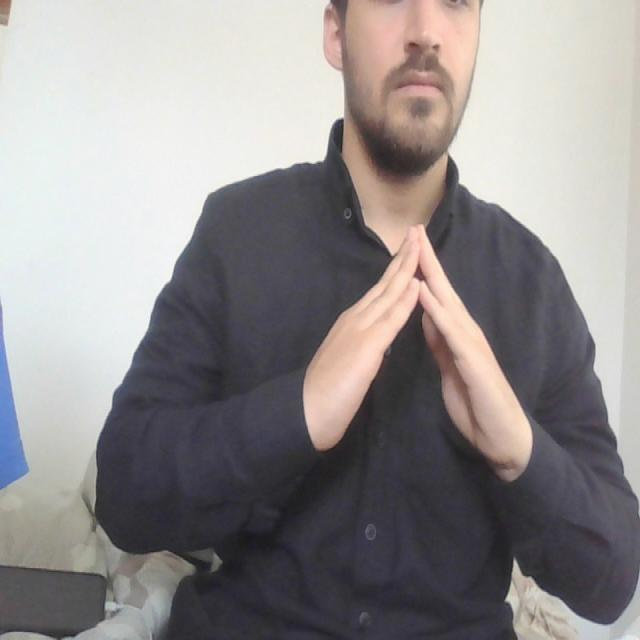Ev: (297, 220, 535, 473)
